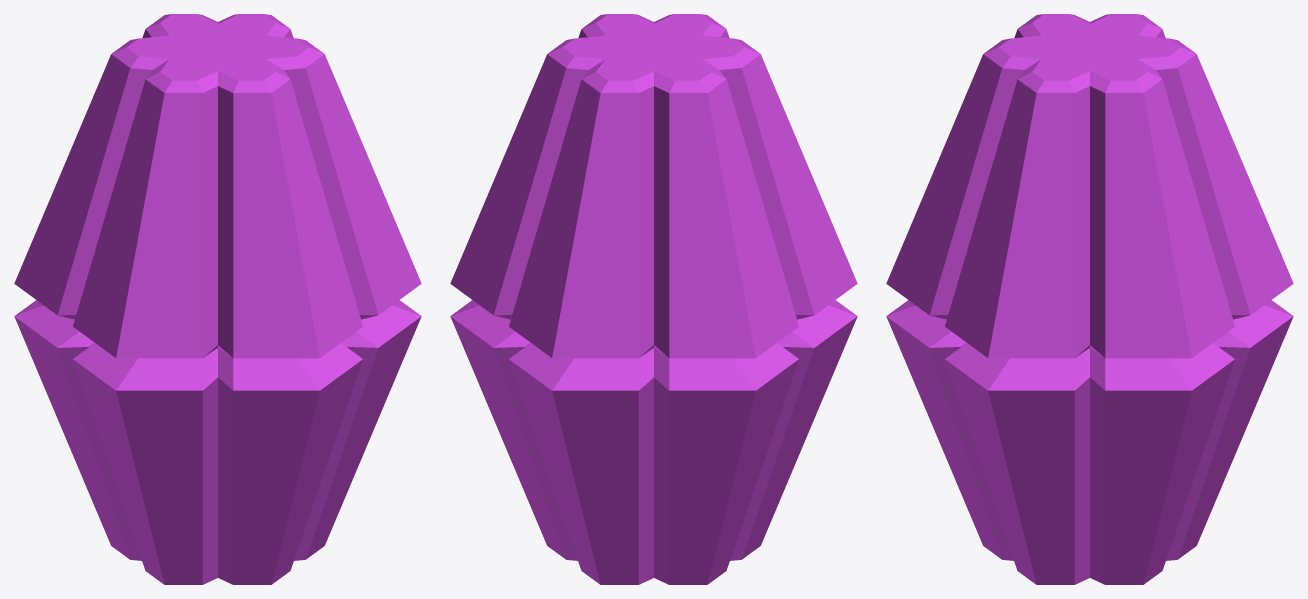
Rendered from shield_gen.fbx.
3 views of the same model, side by side, from view 1: azimuth 30°, elevation 25°; view 2: azimuth 150°, elevation 25°; view 3: azimuth 270°, elevation 25° (orthographic).
Visible parts, largest first — view 1: Cylinder; view 2: Cylinder; view 3: Cylinder.
Part boxes in pixels (x1,y1,x2,y2): Cylinder: (14, 14, 421, 584); Cylinder: (450, 14, 857, 584); Cylinder: (886, 14, 1293, 584).
Bounding box in the file's own units: 173 × 270 × 200.
